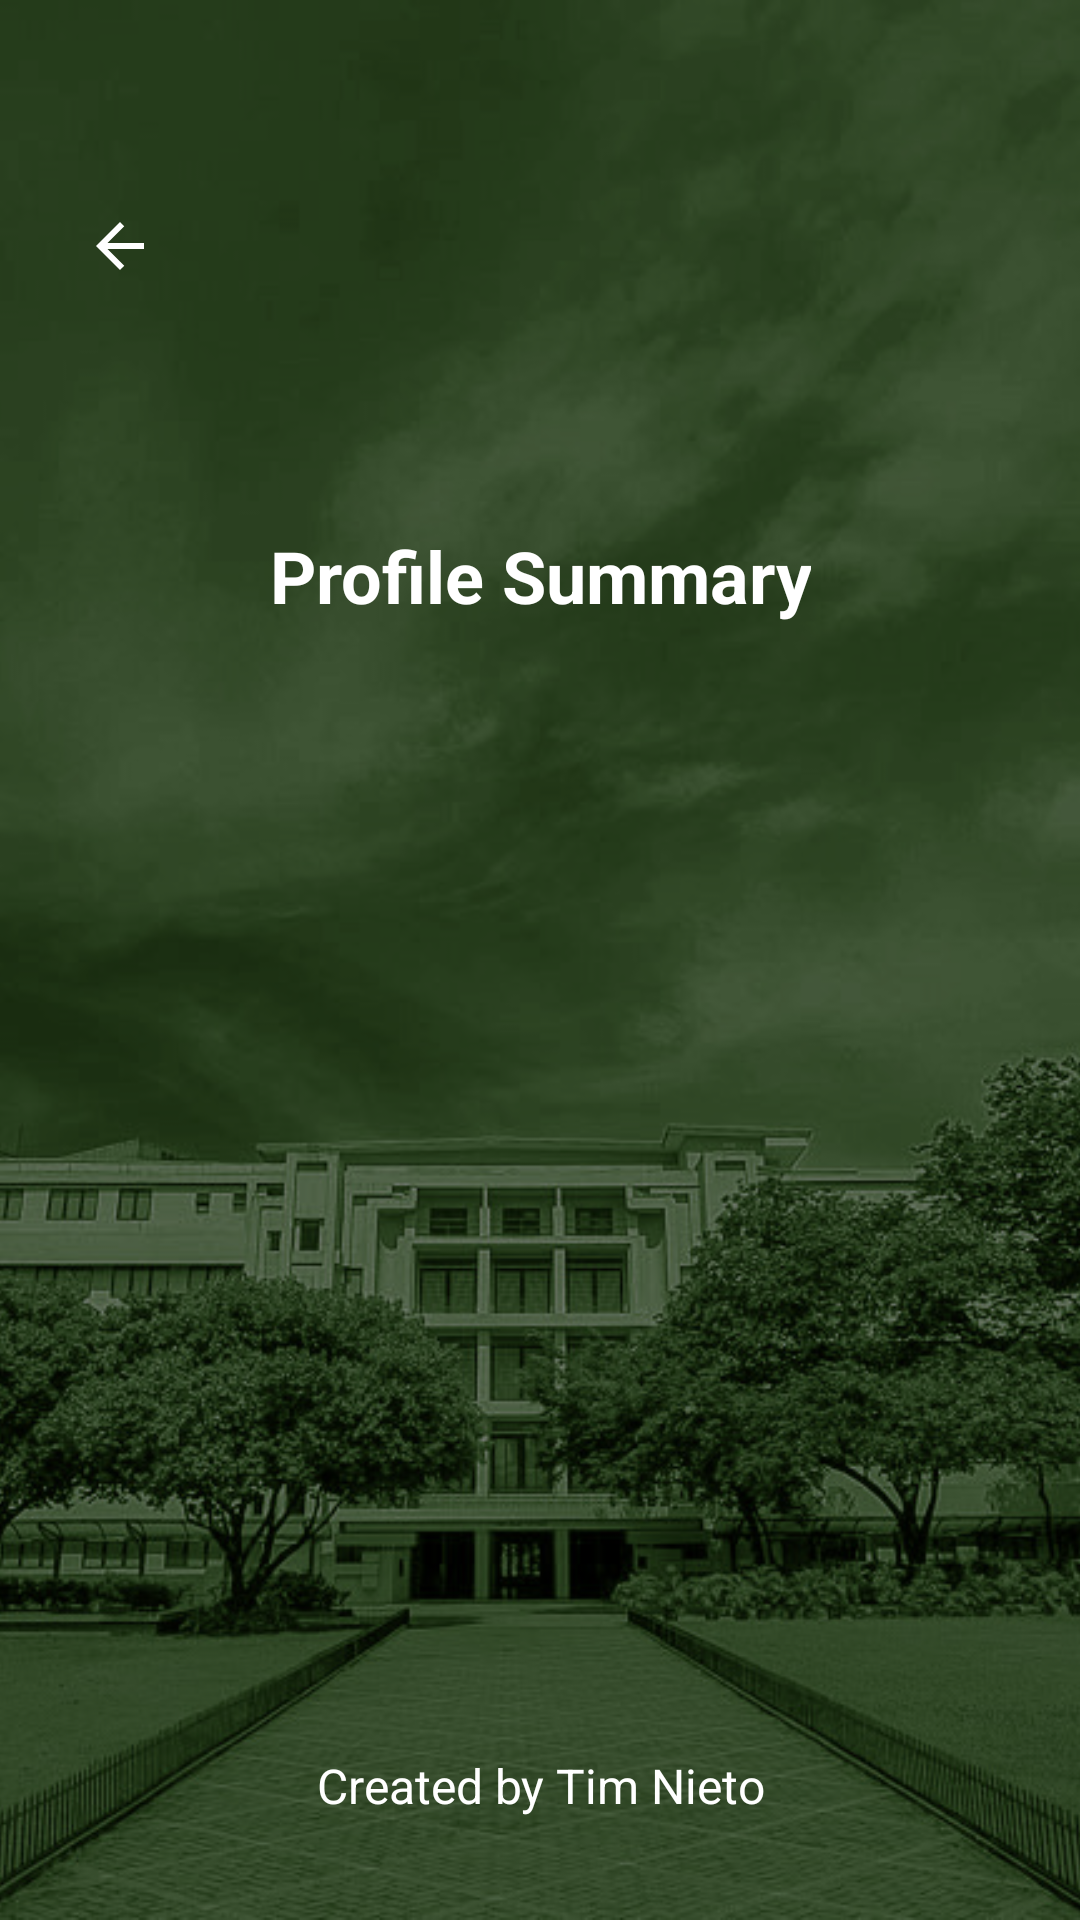

Named icons in this screenshot (1080w x 1920h) and their bounding boxes, {"x1": x1, "y1": y1, "x2": x2, "y2": y2}:
Back: {"x1": 96, "y1": 222, "x2": 144, "y2": 270}
